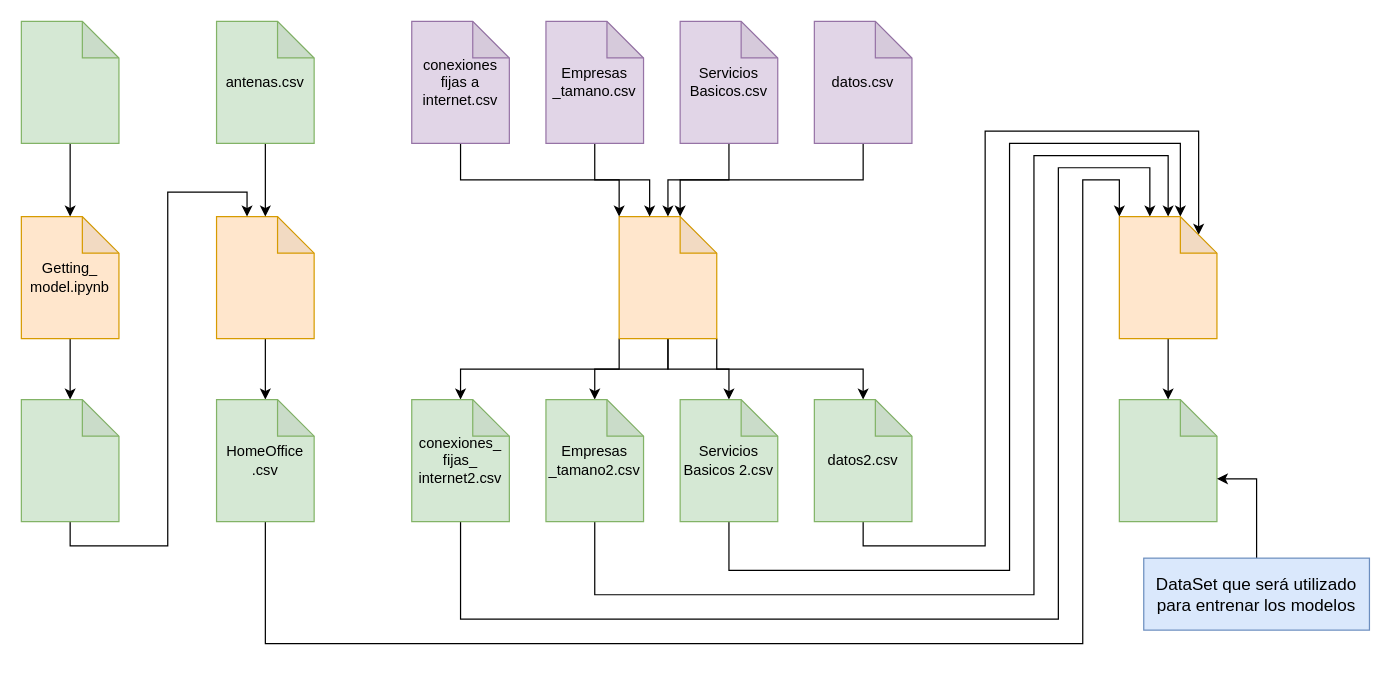
Some shapes in this 1391 by 675 pixel diagram are drawn without their labels. Each missing label, with the centre of its shape:
"final.csv" belongs at (x=1167, y=460).
"Get_%_of_ homeoffice .ipynb" belongs at (x=264, y=277).
"loreto_idea_ clean .csv" belongs at (x=69, y=81).
"merge_data _Chile.ipynb" belongs at (x=1167, y=277).
"new_train.csv" belongs at (x=69, y=460).
"obtain_data _Chile.ipynb" belongs at (x=667, y=277).
